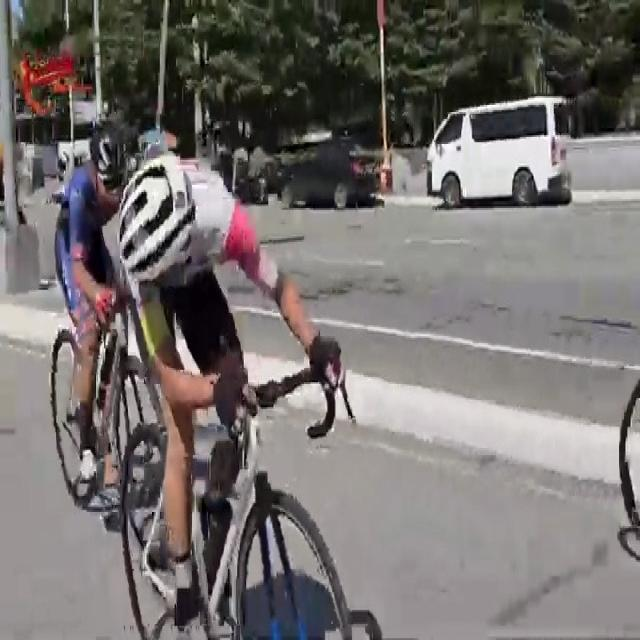bike: (120, 153, 358, 640), (49, 124, 167, 514), (614, 367, 640, 555)
car: (424, 93, 572, 209), (277, 142, 374, 208)
